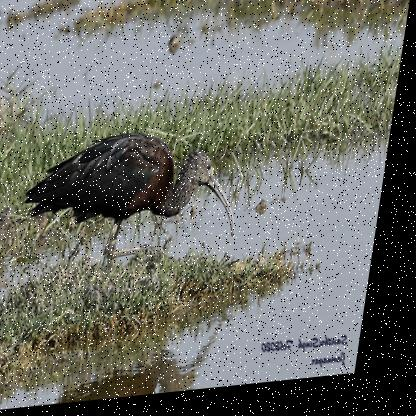Burung: (20, 123, 259, 298)
